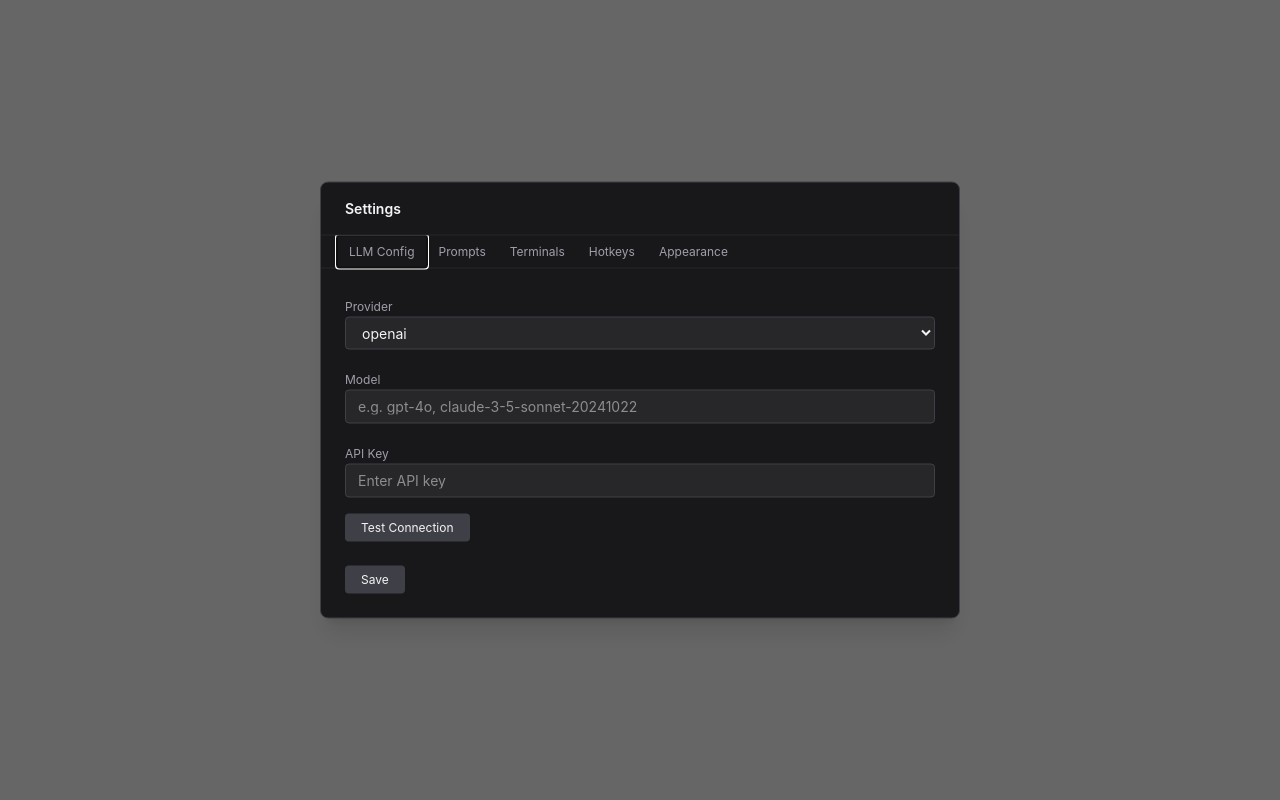
SettingsDialog › clicking Prompts tab switches to prompts panel
Click the tab "Prompts" at (462, 252), box [426,236,498,268]
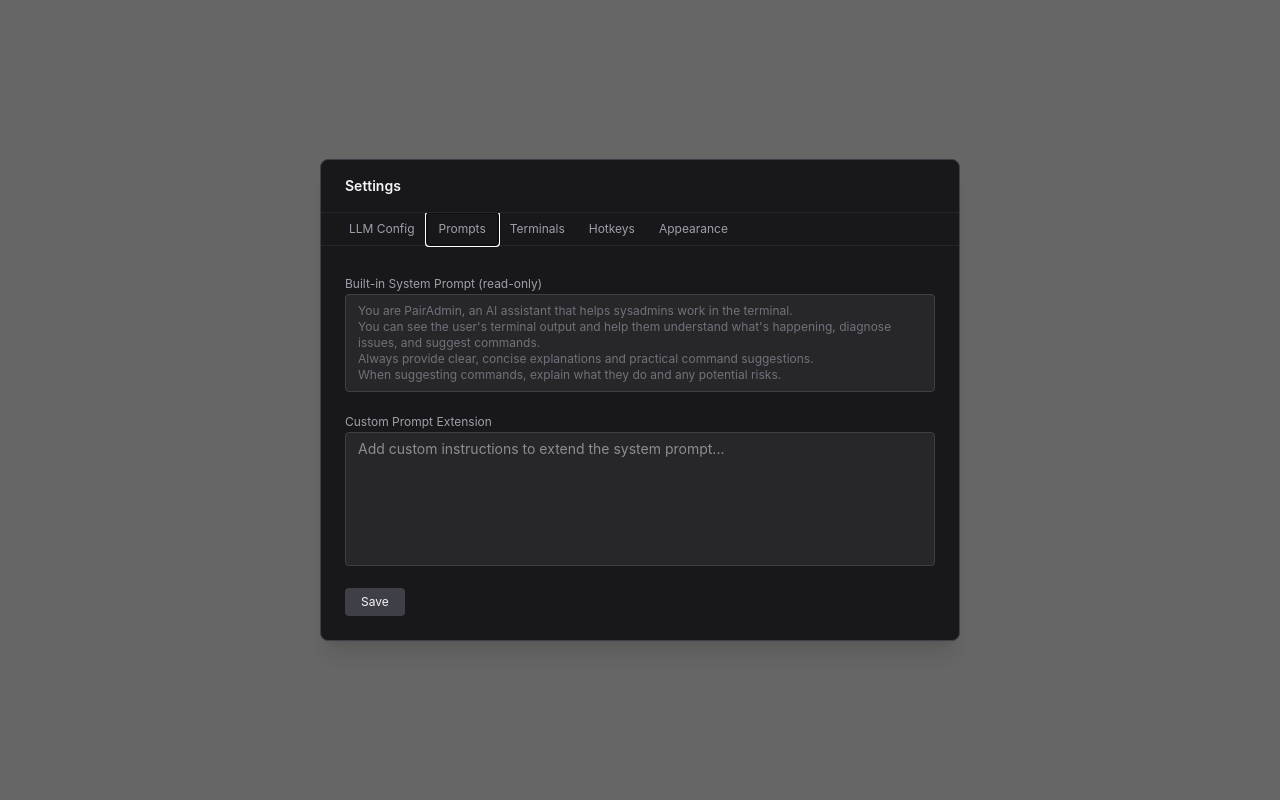
Check: the text box with placeholder "Add custom instructions to extend the system prompt..." is shown, box [345,432,935,566]
